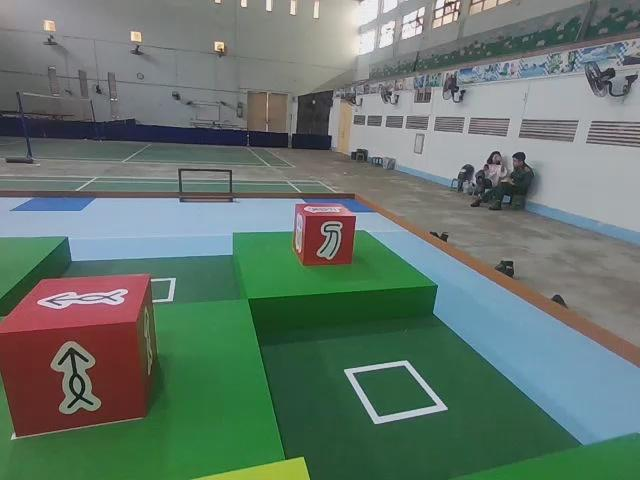R2 Fake: (292, 204, 359, 269)
R2 Real: (0, 270, 158, 441)
